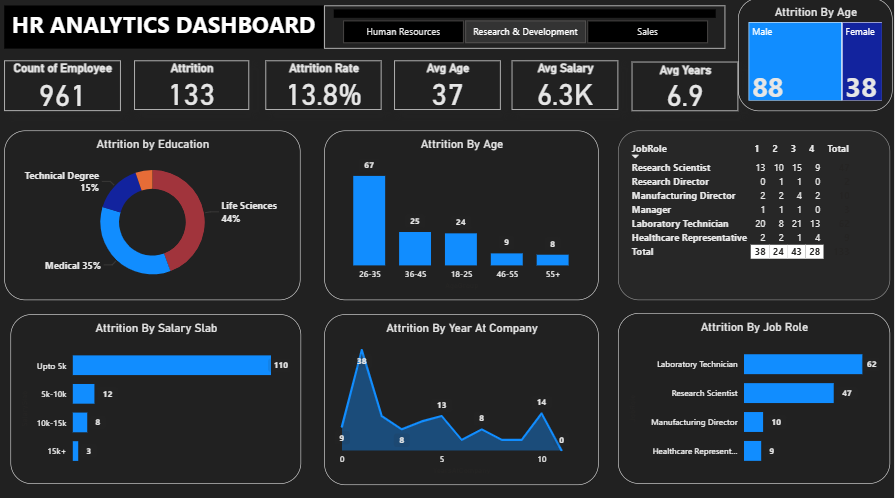

The page's visual inventory and layout, read from the dashboard file:
{"tool":"powerbi","page":{"name":"Page 1","canvas":[1280,720],"ordinal":0},"visuals":[{"type":"card","title":"Count of Employee","fields":{"Values":["CountNonNull(HR_Analytics.EmpID)"]},"box":[9.2,89.2,166.2,72.3],"z":0},{"type":"card","title":"Attrition","fields":{"Values":["Sum(HR_Analytics.AttritionCount)"]},"box":[195.5,88.6,163.6,70.5],"z":1000},{"type":"card","title":"Attrition Rate","fields":{"Values":["HR_Analytics.AttritionRate"]},"box":[381.8,88.6,165.9,70.5],"z":2000},{"type":"card","title":"Avg Age","fields":{"Values":["Avg(HR_Analytics.Age)"]},"box":[565.9,88.6,152.3,70.5],"z":3000},{"type":"card","title":"Avg Salary","fields":{"Values":["Avg(HR_Analytics.MonthlyIncome)"]},"box":[734.1,88.6,152.3,70.5],"z":4000},{"type":"card","title":"Avg Years","fields":{"Values":["Avg(HR_Analytics.YearsAtCompany)"]},"box":[904.5,90.9,152.3,70.5],"z":5000},{"type":"pieChart","title":"Attrition by Education","fields":{"Category":["HR_Analytics.EducationField"],"Y":["Sum(HR_Analytics.AttritionCount)"]},"box":[9.6,188.5,423.1,242.3],"z":6000},{"type":"columnChart","title":"Attrition By Age","fields":{"Category":["HR_Analytics.AgeGroup"],"Y":["Sum(HR_Analytics.AttritionCount)"]},"box":[465.4,188.5,392.3,242.3],"z":7000},{"type":"pivotTable","fields":{"Rows":["HR_Analytics.JobRole"],"Columns":["HR_Analytics.JobSatisfaction"],"Values":["Sum(HR_Analytics.AttritionCount)"]},"box":[886.5,188.5,388.5,242.3],"z":8000},{"type":"barChart","title":"Attrition By Salary Slab","fields":{"Category":["HR_Analytics.SalarySlab"],"Y":["Sum(HR_Analytics.AttritionCount)"]},"box":[17.3,451.9,415.4,242.3],"z":9000},{"type":"barChart","title":"Attrition By Job Role","fields":{"Category":["HR_Analytics.JobRole"],"Y":["Sum(HR_Analytics.AttritionCount)"]},"box":[886.5,450,388.5,244.2],"z":10000},{"type":"areaChart","title":"Attrition By Year At Company","fields":{"Category":["HR_Analytics.YearsAtCompany"],"Y":["Sum(HR_Analytics.AttritionCount)"]},"box":[465.4,451.9,392.3,244.2],"z":11000},{"type":"treemap","title":"Attrition By Age","fields":{"Group":["HR_Analytics.Gender"],"Values":["Sum(HR_Analytics.AttritionCount)"]},"box":[1057.7,0,221.2,161.5],"z":12000},{"type":"slicer","fields":{"Values":["HR_Analytics.Department"]},"box":[465.4,11.5,573.1,61.5],"z":13000},{"type":"textbox","box":[9.6,11.5,455.8,61.5],"z":14000}]}

Visuals, with their boxes in screenshot pixels (x1, y1, x2, y2), scaled from the page's 1280x720 canvas onto the 895x498 screenshot:
"Count of Employee" card: rect(6, 62, 123, 112)
"Attrition" card: rect(137, 61, 251, 110)
"Attrition Rate" card: rect(267, 61, 383, 110)
"Avg Age" card: rect(396, 61, 502, 110)
"Avg Salary" card: rect(513, 61, 620, 110)
"Avg Years" card: rect(632, 63, 739, 112)
"Attrition by Education" pieChart: rect(7, 130, 303, 298)
"Attrition By Age" columnChart: rect(325, 130, 600, 298)
pivotTable - HR_Analytics.JobRole x HR_Analytics.JobSatisfaction: rect(620, 130, 892, 298)
"Attrition By Salary Slab" barChart: rect(12, 313, 303, 480)
"Attrition By Job Role" barChart: rect(620, 311, 892, 480)
"Attrition By Year At Company" areaChart: rect(325, 313, 600, 481)
"Attrition By Age" treemap: rect(740, 0, 894, 112)
slicer - HR_Analytics.Department: rect(325, 8, 726, 50)
textbox: rect(7, 8, 325, 50)
